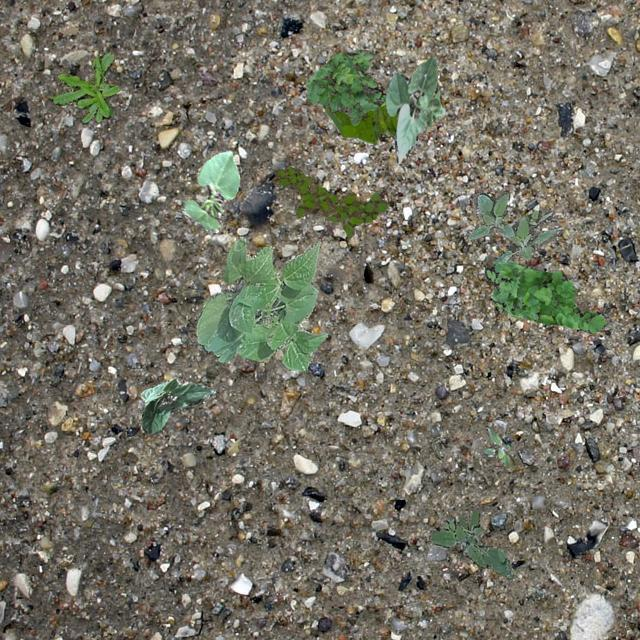crop: (196, 236, 326, 370), (384, 54, 444, 162), (180, 150, 238, 232), (140, 378, 213, 433)
weed: (484, 260, 608, 332), (272, 165, 386, 238), (462, 188, 562, 264), (427, 504, 512, 578), (306, 49, 386, 124), (50, 51, 118, 122), (322, 102, 398, 142), (482, 428, 509, 466)
